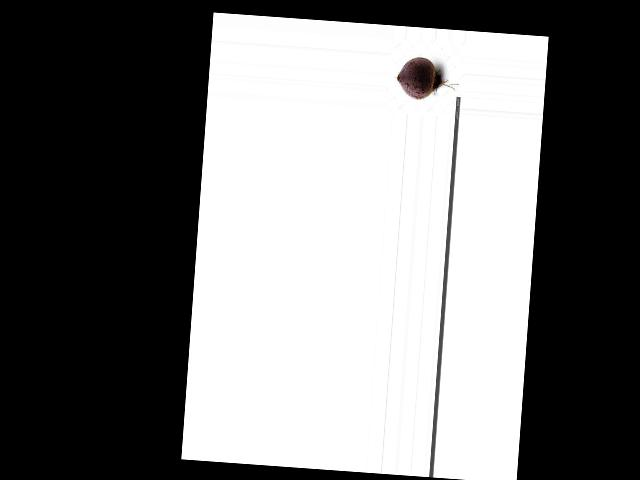beet: (395, 55, 461, 102)
